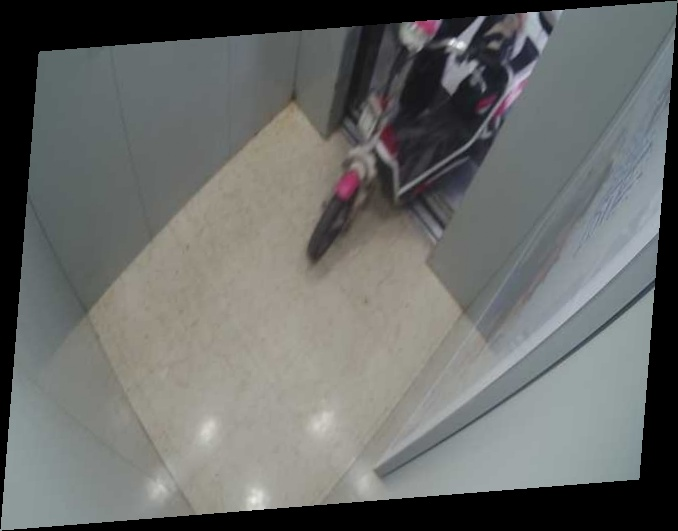electromobile: (315, 32, 510, 265)
